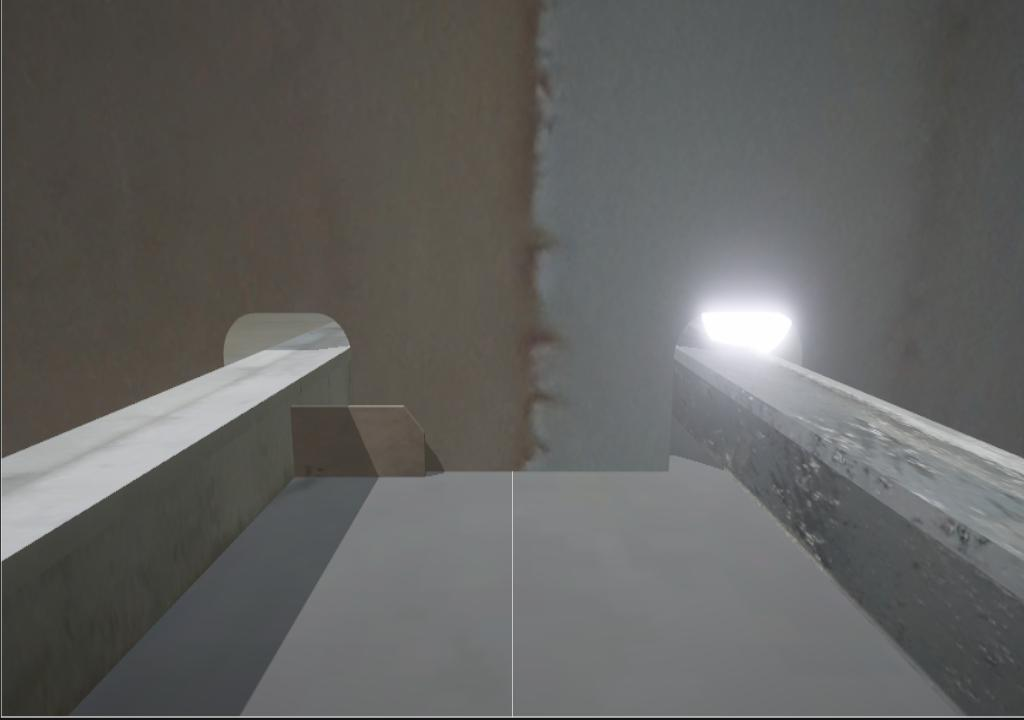fillet_yong_jeop_jang: (427, 464, 683, 481)
plate_CP03: (292, 405, 427, 477)
